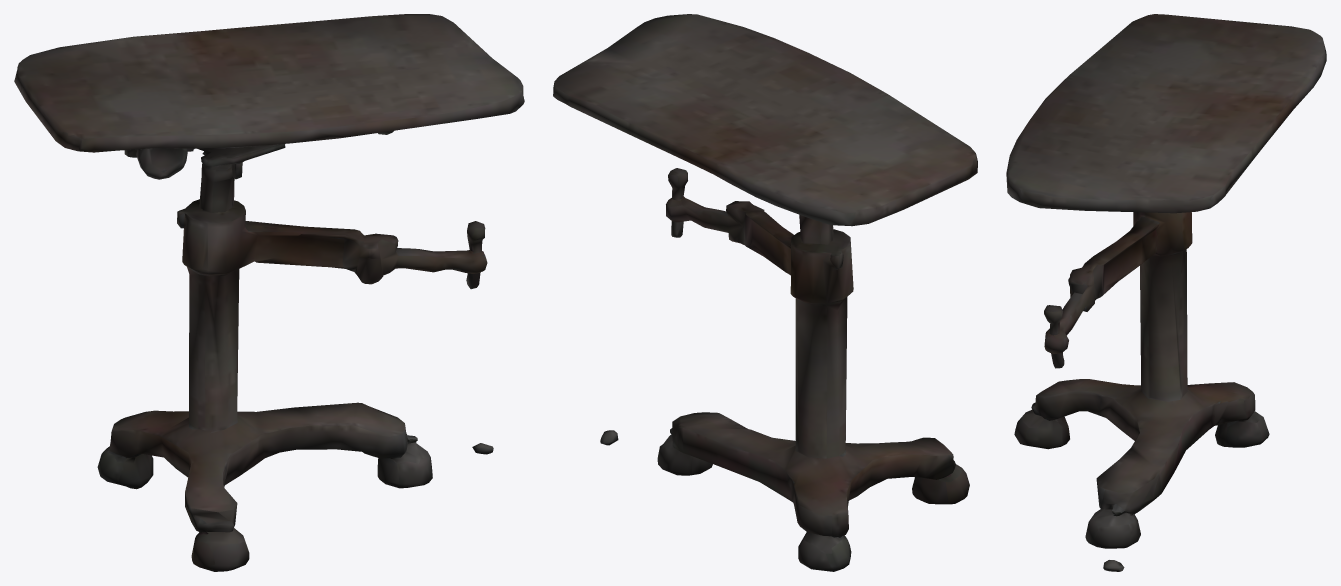
The model's file is ancient-iron-operating-table-v001.glb.
3 views of the same model, side by side, from view 1: azimuth 30°, elevation 25°; view 2: azimuth 150°, elevation 25°; view 3: azimuth 270°, elevation 25° (orthographic). The views are drawn at different scales.
Parts seen in each view (by area): view 1: ancient-iron-operating-table; view 2: ancient-iron-operating-table; view 3: ancient-iron-operating-table.
Part boxes in pixels (x1=…): ancient-iron-operating-table: x1=14, y1=14, x2=524, y2=571; ancient-iron-operating-table: x1=553, y1=14, x2=977, y2=571; ancient-iron-operating-table: x1=1006, y1=14, x2=1326, y2=571.
Size of the model in its own units: 0.9217 by 0.8885 by 0.6655.
Materials: 1 (1 with a texture image).
